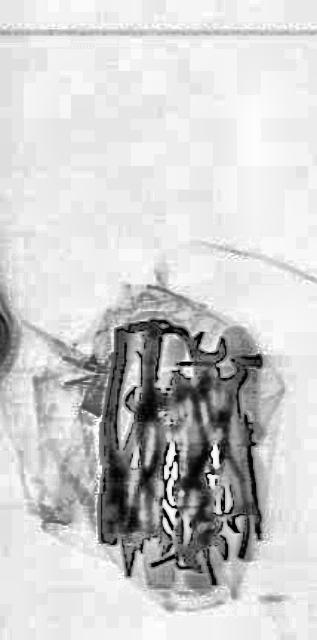Pliers: (96, 316, 162, 576), (200, 403, 250, 584)
Wrench: (173, 324, 227, 498)
